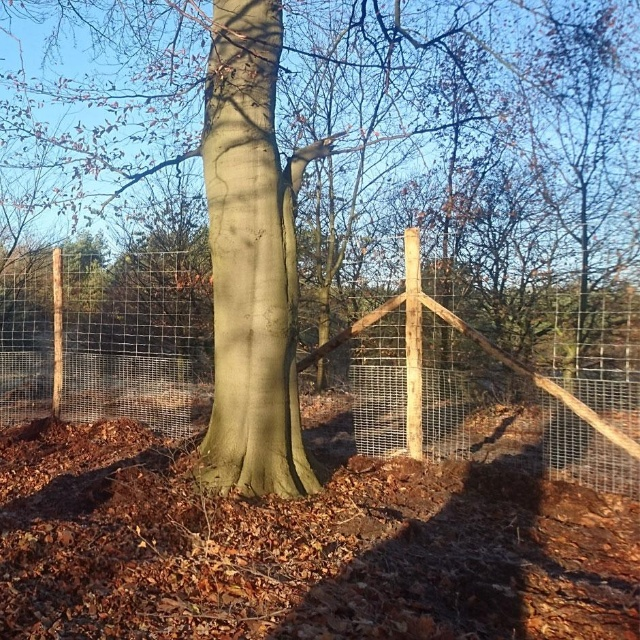obstacle: (3, 186, 640, 439)
